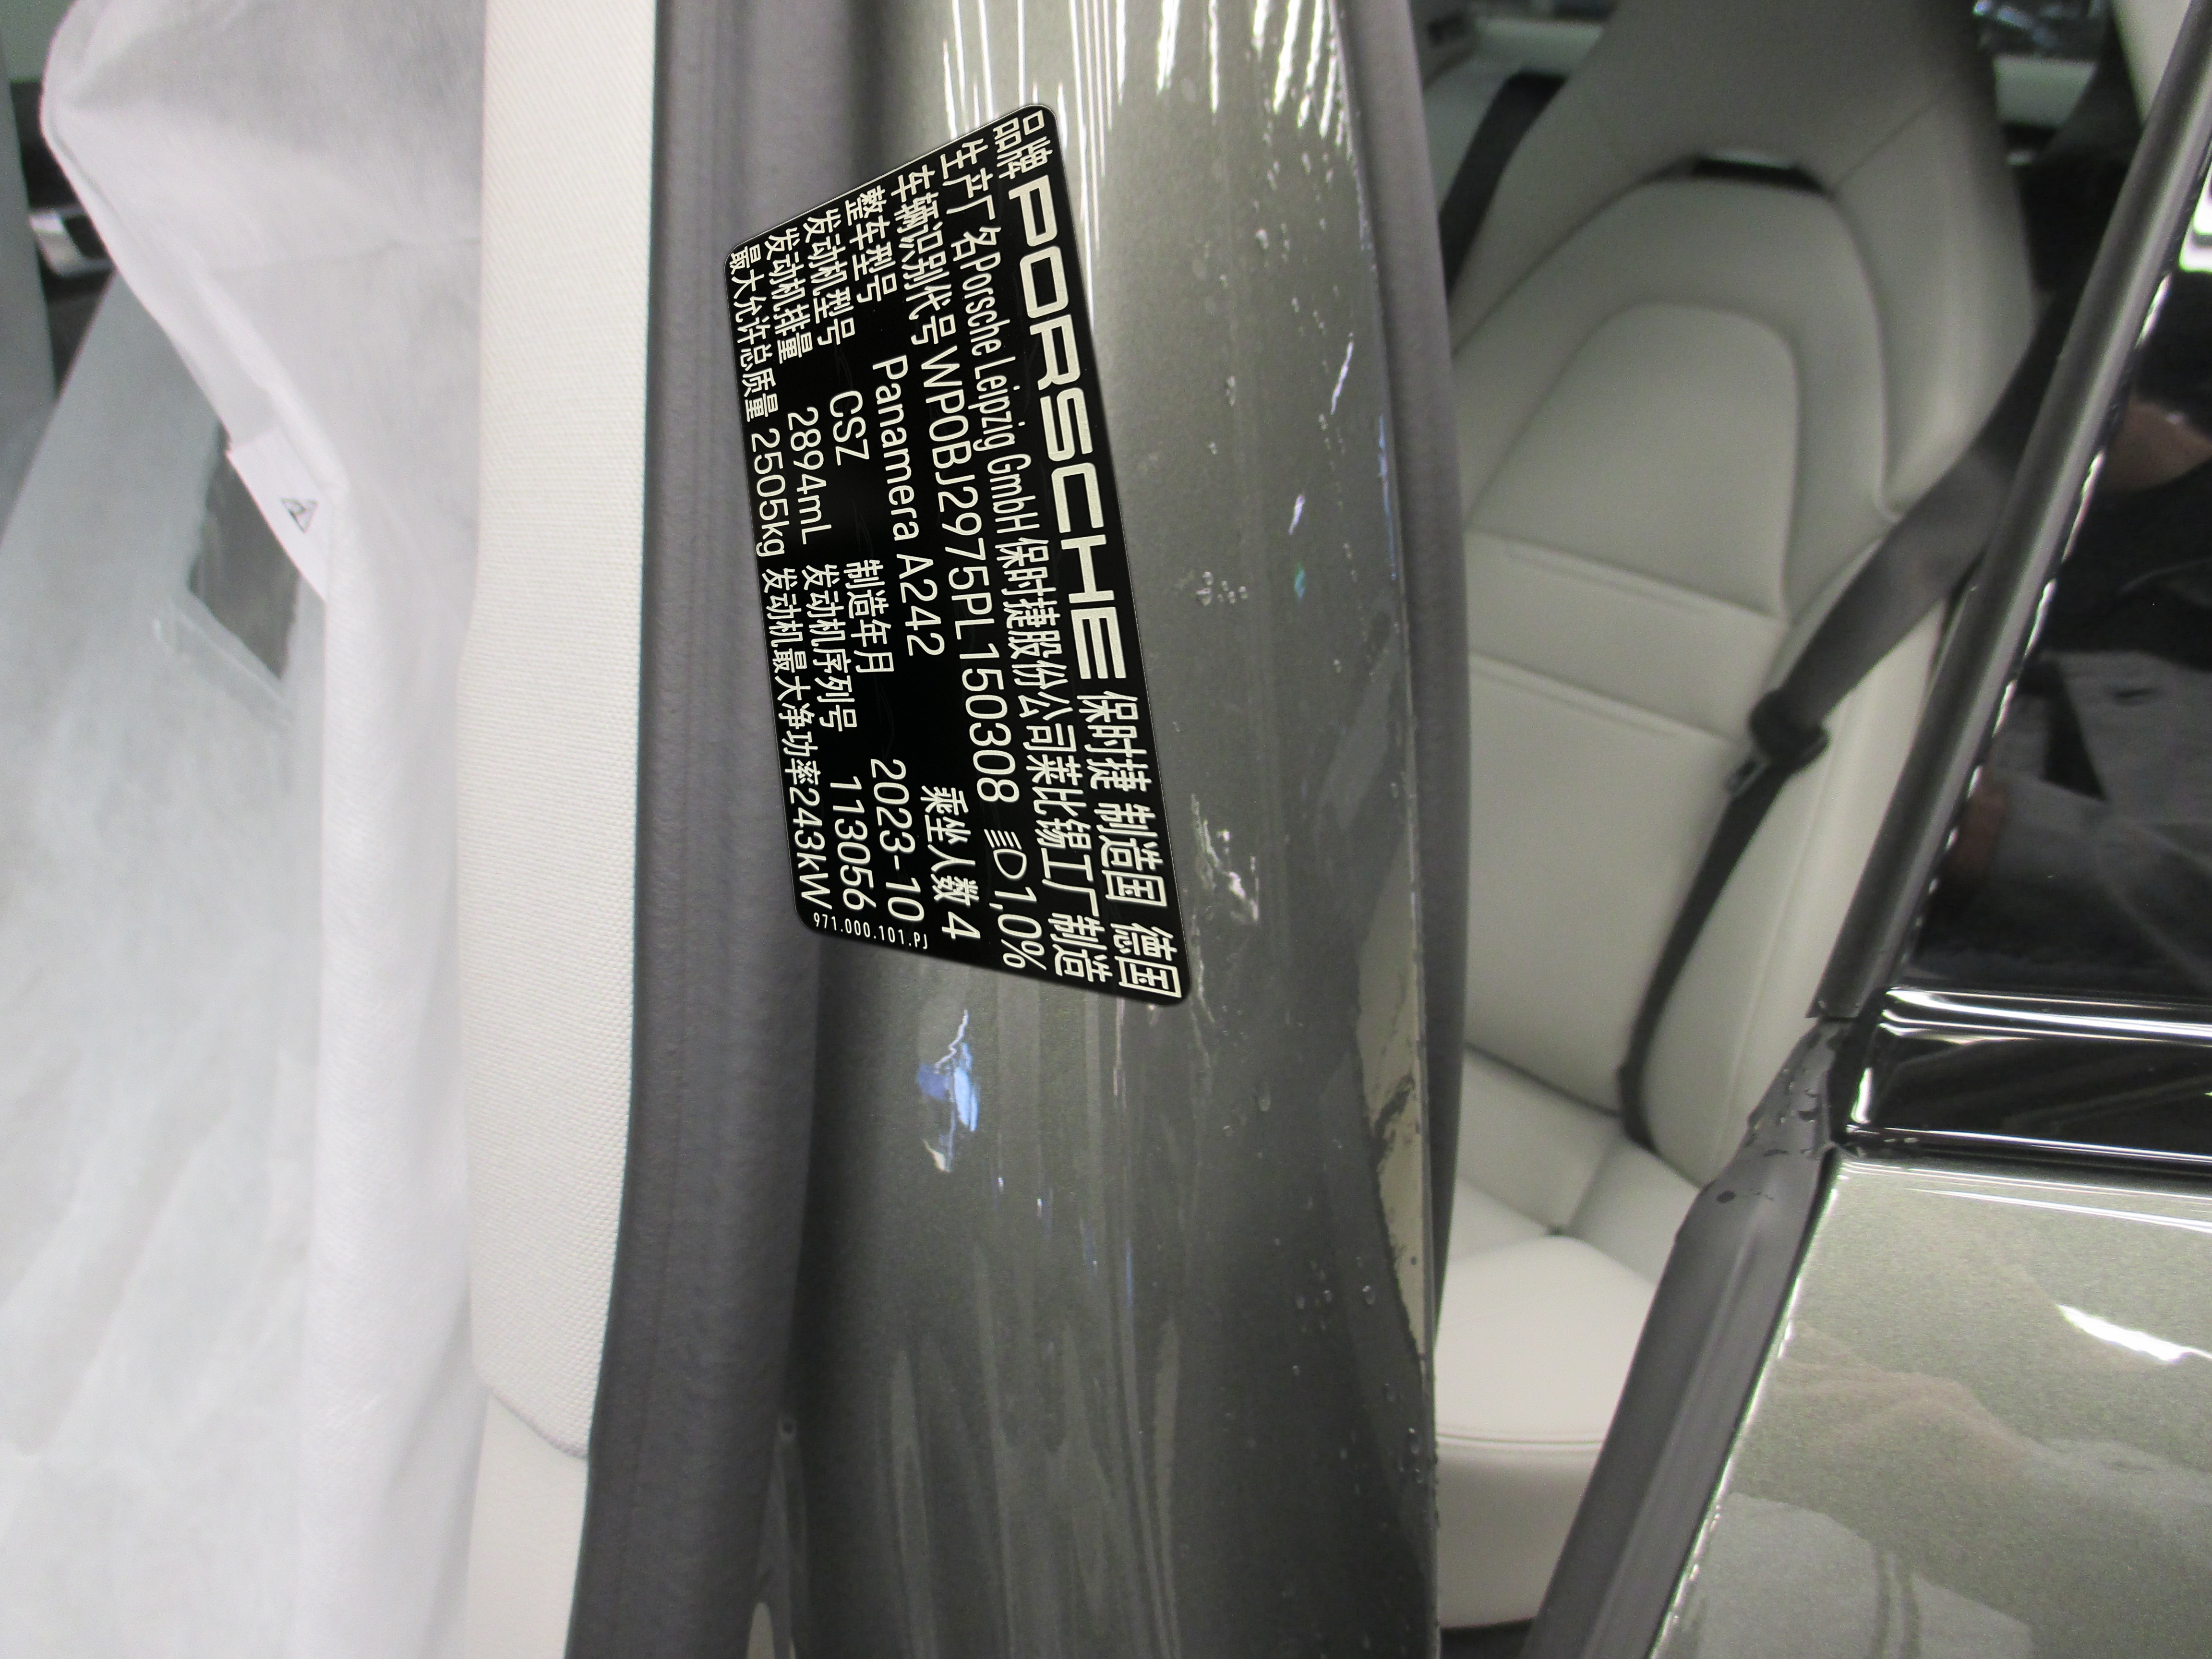Typlabel-China: (725, 105, 1191, 1006)
